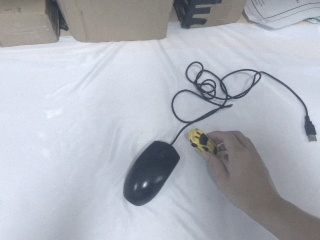box: (47, 1, 176, 45), (1, 1, 60, 49), (172, 1, 249, 30)
mouse: (122, 140, 180, 207), (304, 114, 317, 142)
toy_car: (188, 124, 220, 160)
